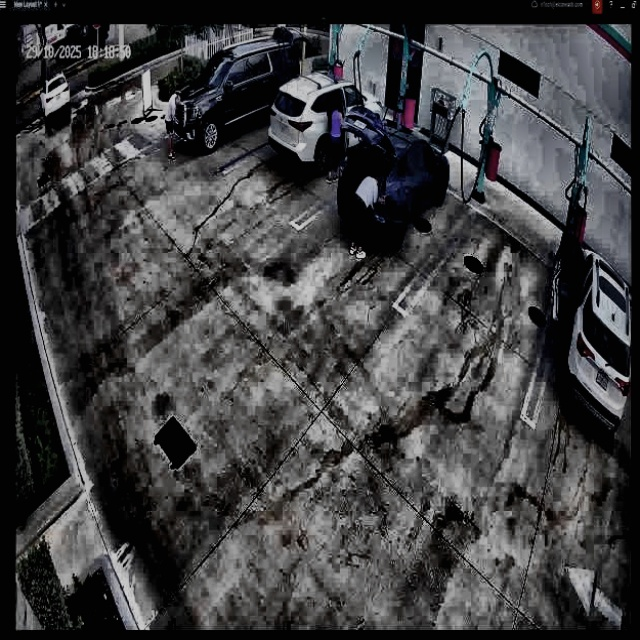Car: (339, 114, 451, 249), (273, 72, 383, 175)
